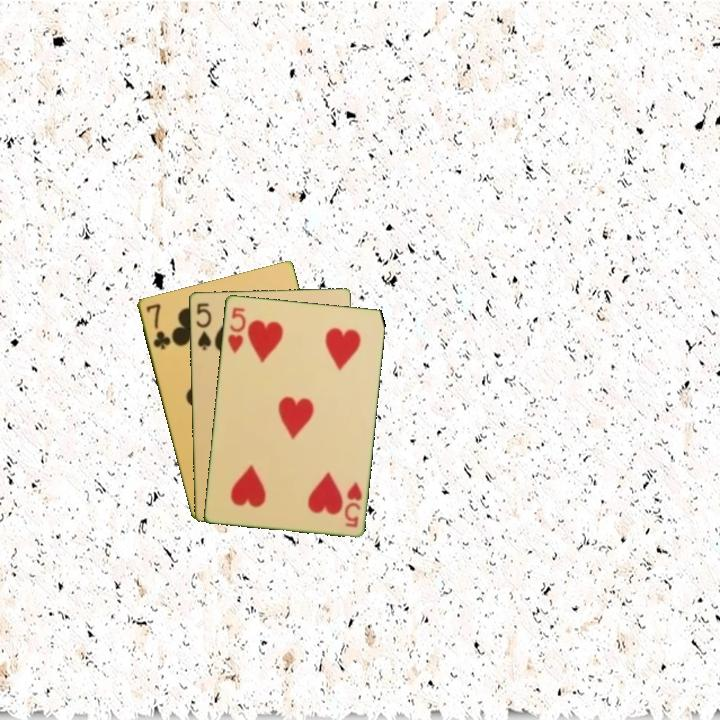5h: (224, 303, 248, 356), (341, 478, 364, 530)
5s: (192, 299, 214, 353)
7c: (142, 300, 173, 352)
